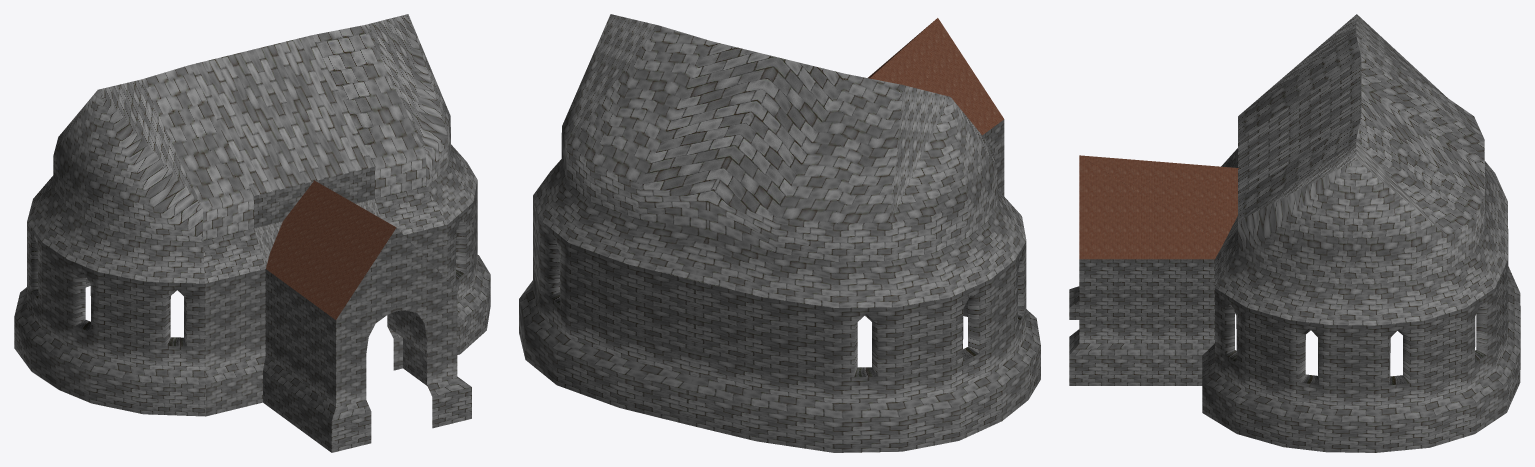
Rendered from Blockout.fbx.
3 renders of one model, left to right at view 1: azimuth 30°, elevation 25°; view 2: azimuth 150°, elevation 25°; view 3: azimuth 270°, elevation 25°, orthographic. The views are drawn at different scales.
Parts seen in each view (by area): view 1: RockChurch__EmptyWall26 (×2), RockChurch__EmptyWall24 (×2), RockChurch__EmptyWall25 (×2), pPlane1, RockChurch__EmptyWall10 (×2), RockChurch__EmptyWall7, RockChurch__EmptyWall9, RockChurch__EmptyWall8; view 2: RockChurch__EmptyWall26 (×2), RockChurch__EmptyWall24 (×2), pPlane1, RockChurch__EmptyWall8; view 3: RockChurch__EmptyWall26 (×2), RockChurch__EmptyWall24 (×2), pPlane1, RockChurch__EmptyWall7, RockChurch__EmptyWall8, RockChurch__EmptyWall9, RockChurch__EmptyWall10.
Boxes of the visible parts, x1,y1,x2,y2 form: RockChurch__EmptyWall26 (×2): [27, 14, 477, 283]; RockChurch__EmptyWall24 (×2): [14, 180, 490, 416]; RockChurch__EmptyWall25 (×2): [331, 228, 471, 452]; pPlane1: [266, 180, 396, 319]; RockChurch__EmptyWall10 (×2): [263, 311, 427, 422]; RockChurch__EmptyWall7: [291, 358, 335, 452]; RockChurch__EmptyWall9: [265, 269, 300, 357]; RockChurch__EmptyWall8: [301, 295, 335, 383]; RockChurch__EmptyWall26 (×2): [533, 14, 1026, 307]; RockChurch__EmptyWall24 (×2): [519, 195, 1040, 452]; pPlane1: [870, 18, 1003, 135]; RockChurch__EmptyWall8: [982, 119, 1004, 191]; RockChurch__EmptyWall26 (×2): [1215, 14, 1508, 325]; RockChurch__EmptyWall24 (×2): [1202, 233, 1520, 452]; pPlane1: [1079, 155, 1238, 259]; RockChurch__EmptyWall7: [1069, 320, 1146, 385]; RockChurch__EmptyWall8: [1079, 259, 1146, 320]; RockChurch__EmptyWall9: [1147, 259, 1214, 320]; RockChurch__EmptyWall10: [1147, 320, 1214, 385].
Size of the model in its own units: 36.78 by 22.82 by 35.11.
Materials: 2 (2 with a texture image).
